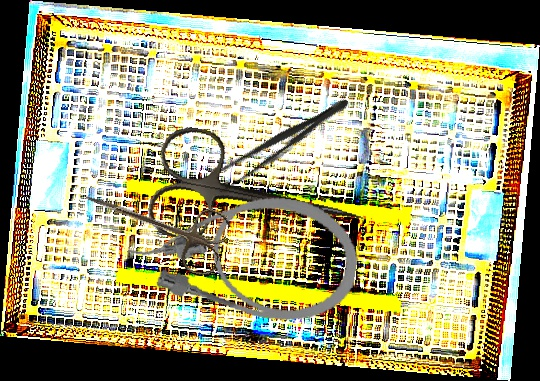Cannula: (120, 173, 366, 332)
Dressing Forceps: (209, 90, 355, 197)
Iris Scissors: (143, 122, 376, 275), (74, 169, 233, 279)
